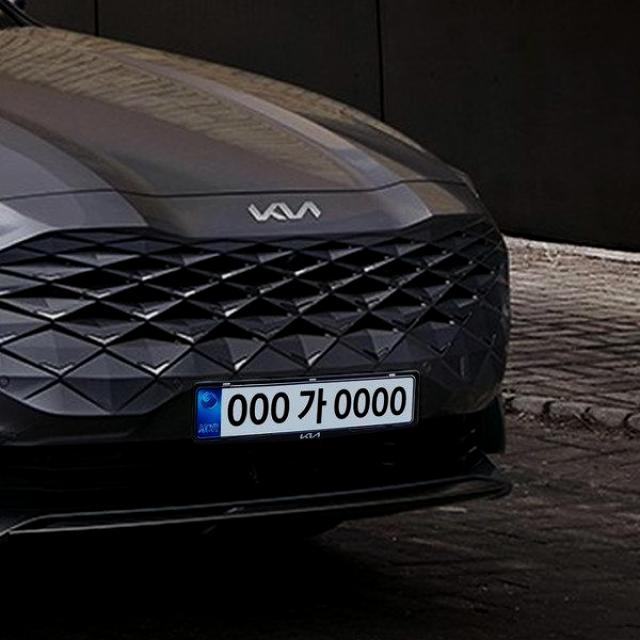illegal_plate: (192, 375, 418, 446)
